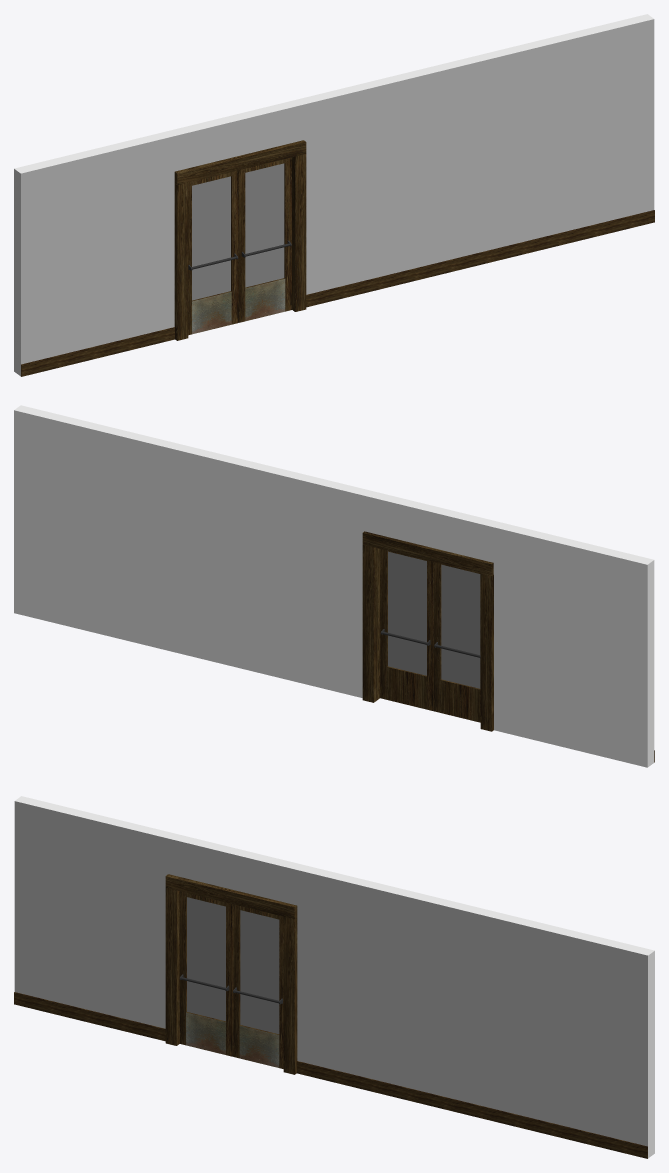
File: entrance door wall.FBX
3 renders of one model, top to bottom at view 1: azimuth 30°, elevation 25°; view 2: azimuth 150°, elevation 25°; view 3: azimuth 330°, elevation 25°, orthographic.
Parts seen in each view (by area): view 1: entrance door wall, Entrance door B, Entrance door A; view 2: entrance door wall, Entrance door B, Entrance door A; view 3: entrance door wall, Entrance door A, Entrance door B.
Boxes of the visible parts, x1=… form: entrance door wall: x1=14, y1=14, x2=654, y2=376; Entrance door B: x1=238, y1=157, x2=291, y2=322; Entrance door A: x1=188, y1=170, x2=238, y2=335; entrance door wall: x1=14, y1=405, x2=654, y2=767; Entrance door B: x1=380, y1=549, x2=433, y2=710; Entrance door A: x1=433, y1=562, x2=480, y2=722; entrance door wall: x1=14, y1=796, x2=654, y2=1158; Entrance door A: x1=179, y1=891, x2=233, y2=1056; Entrance door B: x1=233, y1=904, x2=283, y2=1068.
Size of the model in its own units: 1280 by 392 by 40.8.
